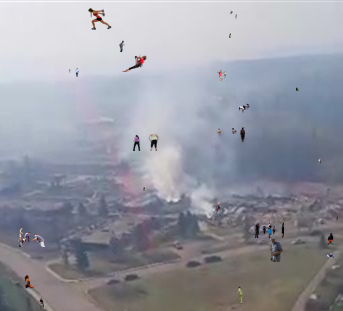Human: (18, 227, 45, 247), (254, 220, 284, 238), (88, 8, 112, 30), (129, 134, 159, 151), (217, 127, 245, 145), (120, 54, 147, 72), (270, 239, 283, 262), (14, 275, 34, 289), (239, 103, 266, 113), (213, 202, 221, 220), (325, 233, 336, 245), (236, 286, 243, 304), (217, 70, 226, 83), (69, 68, 79, 77), (119, 40, 125, 52), (39, 297, 44, 310), (327, 253, 335, 259), (318, 158, 321, 164), (296, 87, 299, 91), (142, 187, 145, 191), (230, 10, 233, 14), (336, 216, 338, 221), (229, 33, 231, 38), (235, 14, 237, 19)
